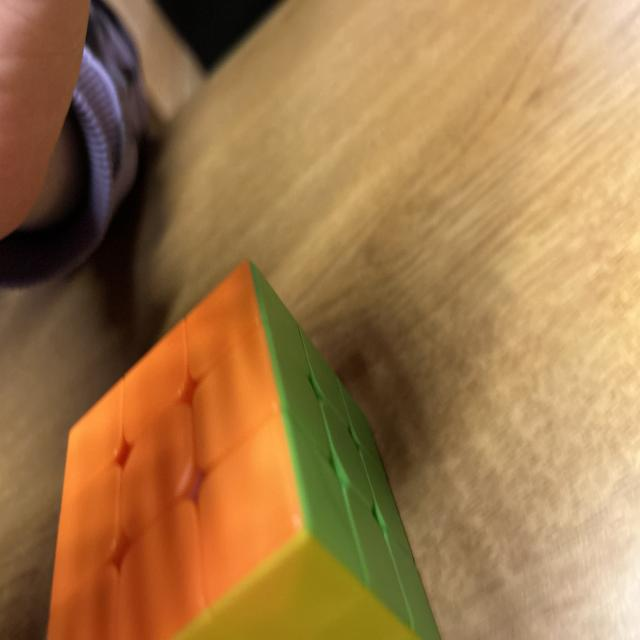Rubiks Cube: (45, 259, 438, 639)
